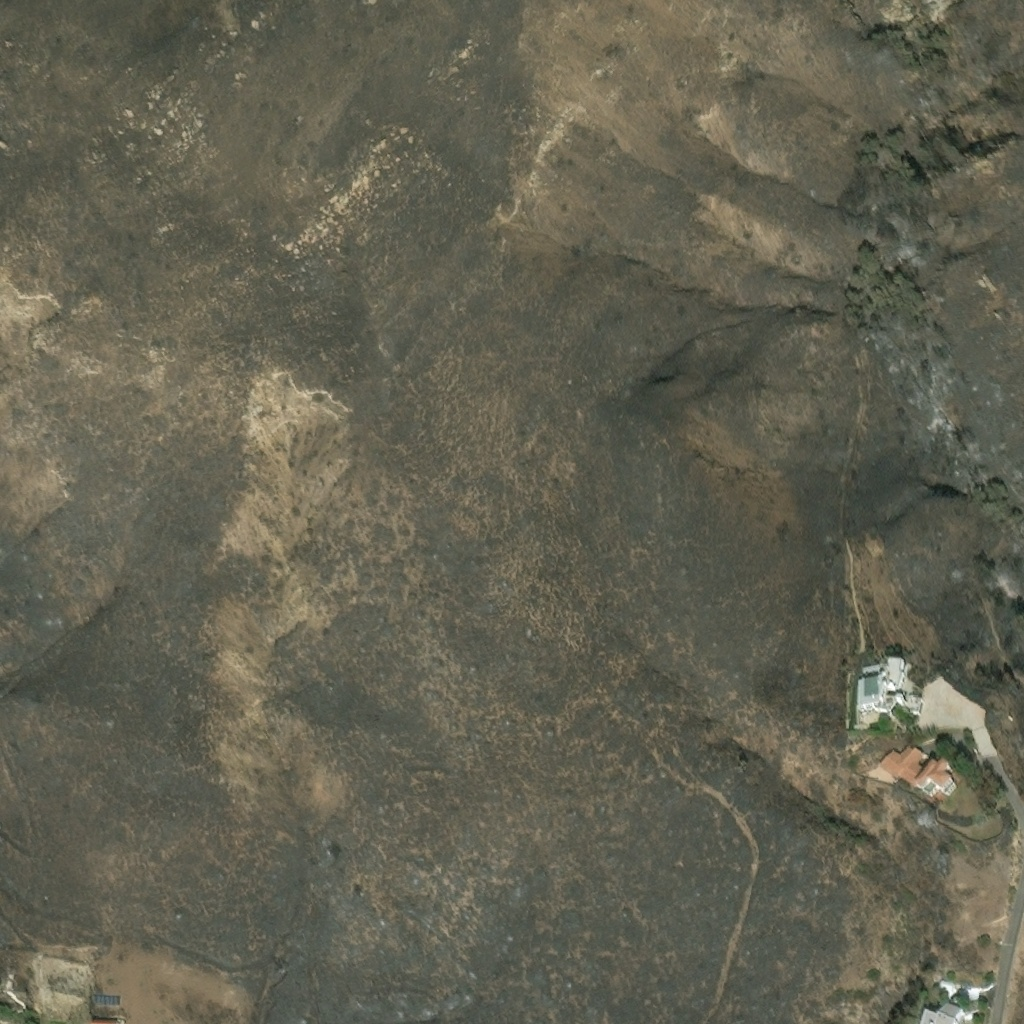0 no-damage: (904, 682, 999, 761), (878, 746, 935, 791), (936, 978, 983, 1019), (858, 665, 889, 714), (917, 764, 958, 800), (884, 661, 907, 714), (852, 707, 892, 733), (922, 1005, 964, 1023), (91, 995, 118, 1004)
